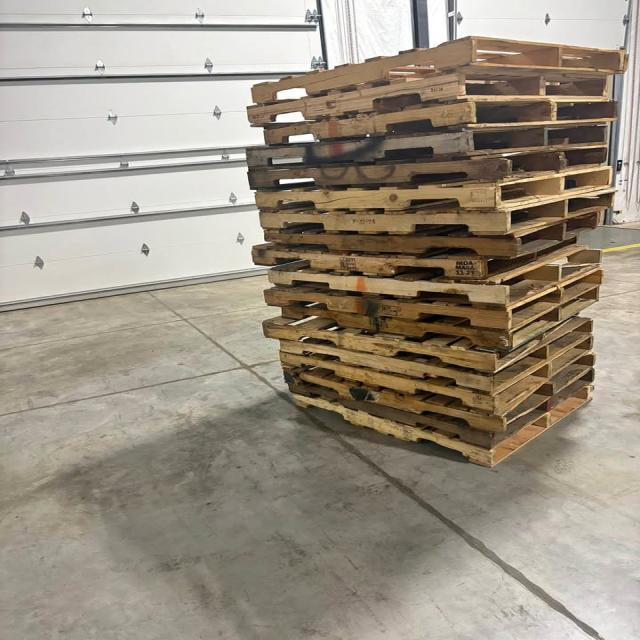non-igps: (244, 30, 633, 111), (282, 364, 610, 454), (277, 347, 599, 438), (276, 329, 603, 417), (257, 262, 614, 342), (285, 380, 599, 470), (243, 62, 617, 136), (262, 240, 611, 319), (239, 114, 615, 182), (249, 160, 623, 228), (259, 311, 599, 383), (252, 183, 623, 248), (275, 285, 603, 355), (245, 226, 589, 292), (260, 205, 608, 270), (246, 140, 622, 199), (256, 92, 623, 152)
